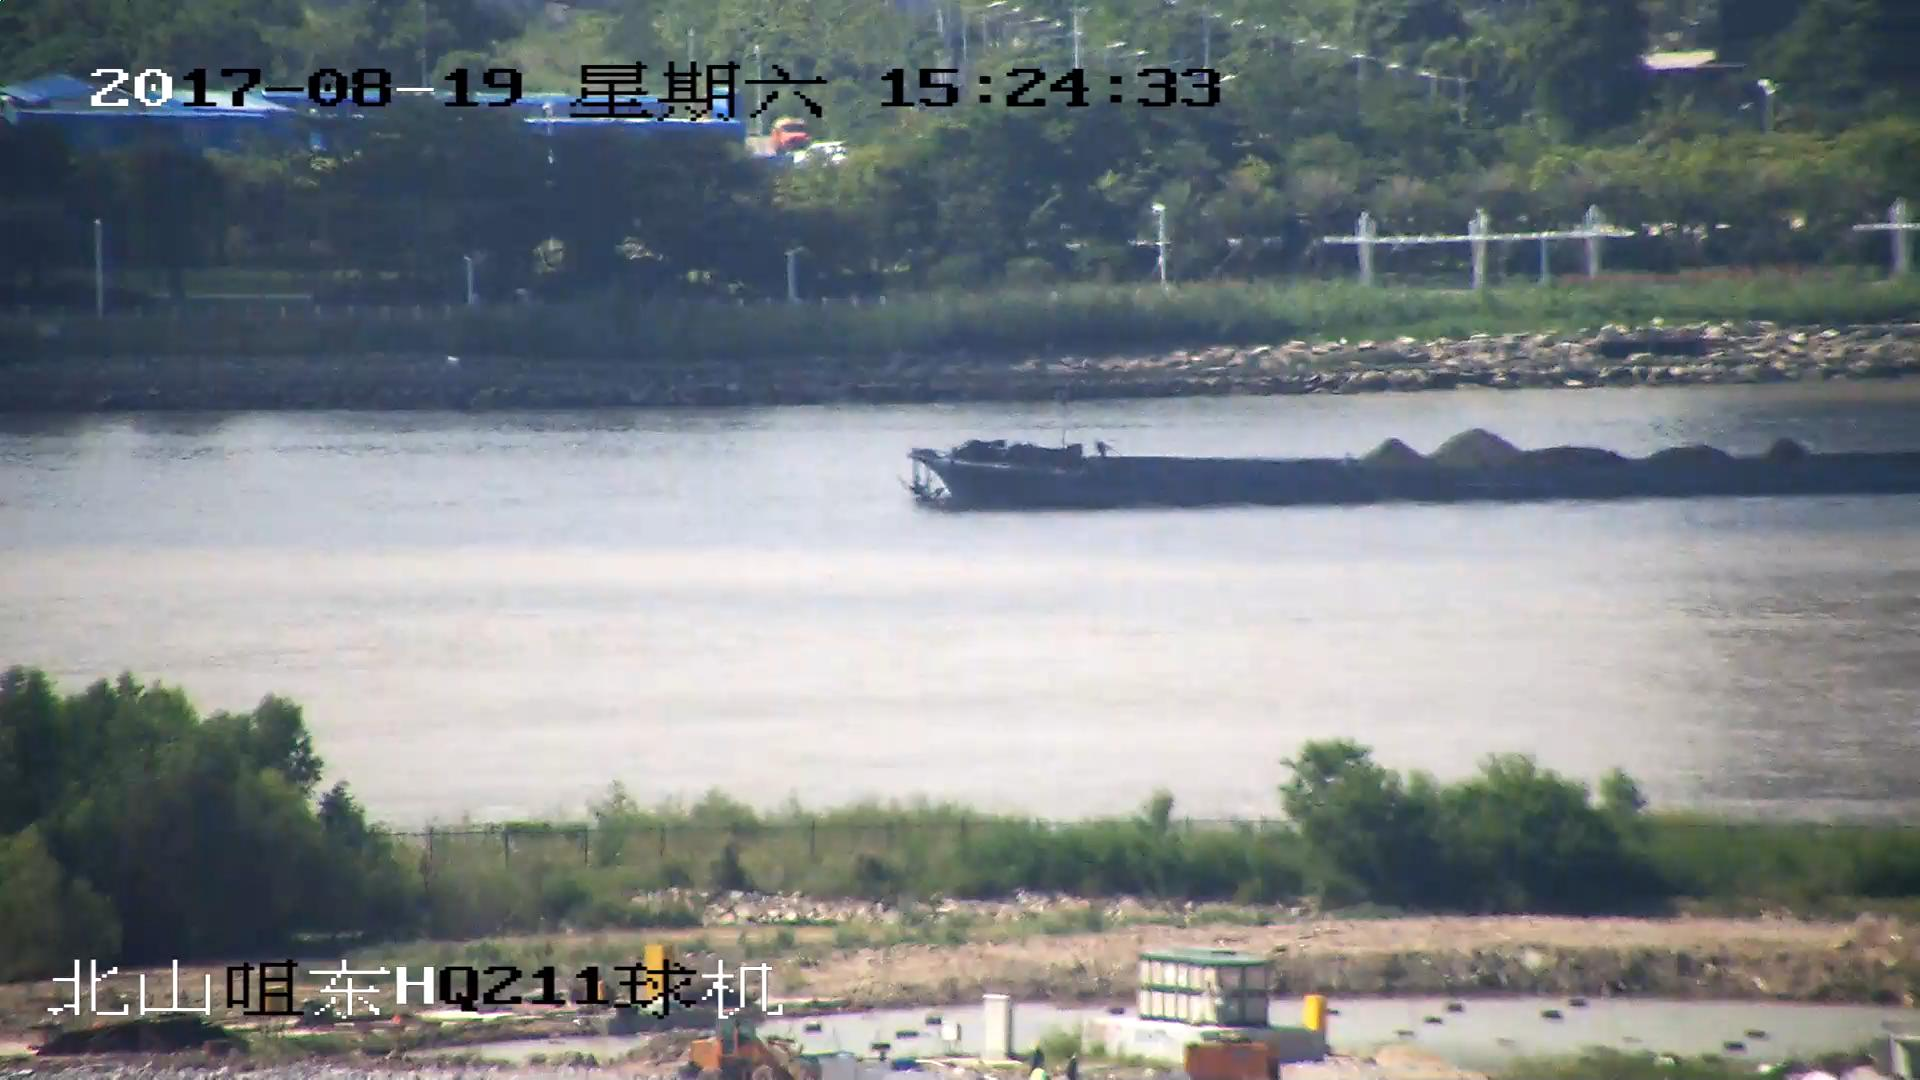ore carrier: (908, 420, 1920, 518)
